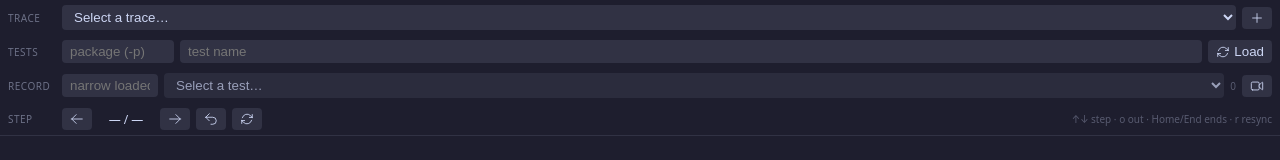
DebugWalkthroughTile › recording from the UI › reports how many tests the filter matched
The image size is (1280, 160).
Click the button with aria-label "Load tests" at (1240, 52), box left=1208, top=40, right=1272, bottom=63
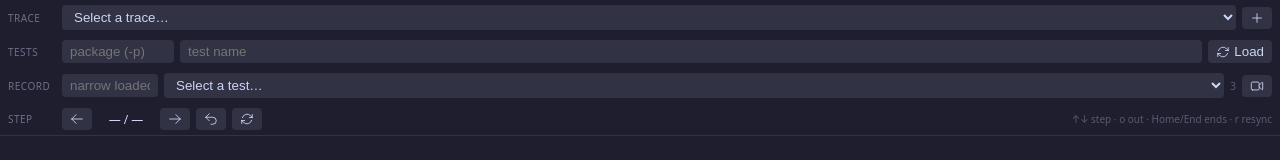
Check: the dropdown named "Test" is shown, box left=164, top=73, right=1224, bottom=98
Check: the text with test id "walkthrough-test-count" reads "3", box left=1230, top=78, right=1236, bottom=92
Type "pty" into the field named "Filter tests" at (110, 86), box left=62, top=74, right=158, bottom=97
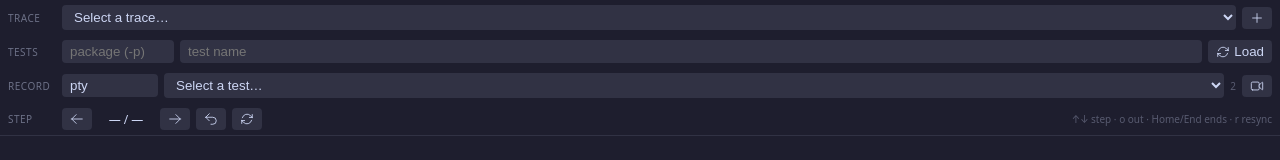
Check: the text with test id "walkthrough-test-count" reads "2", box left=1230, top=78, right=1236, bottom=92
